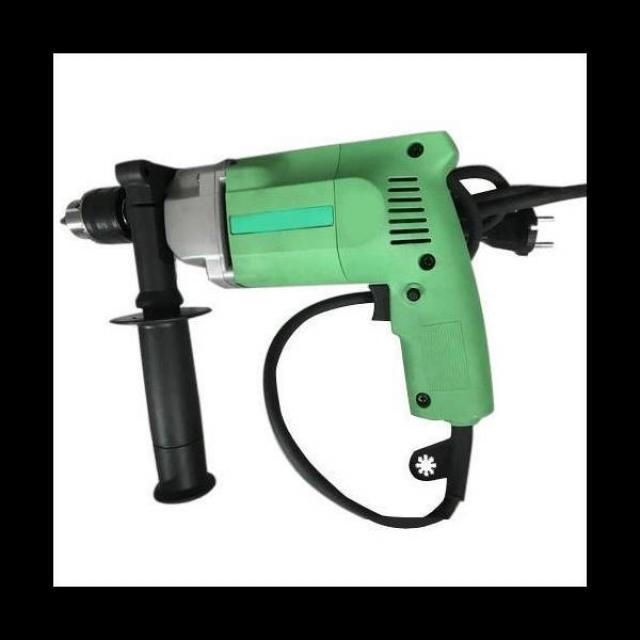drill: (59, 130, 494, 506)
